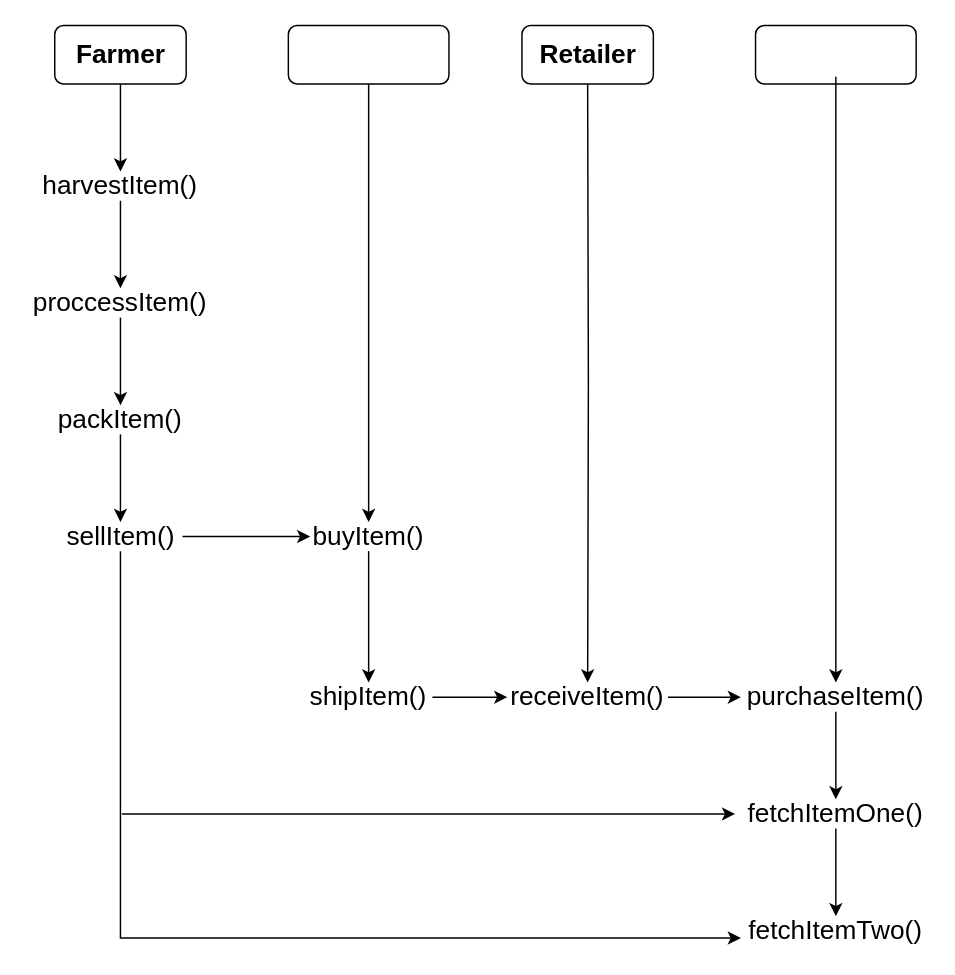
Some shapes in this 955 by 975 pixel diagram are drawn without their labels. The shapes that lost their labels are listed below. From the top down, each one's box as (x1, y1, x2, y2) in pixels, then its label:
(287, 24, 449, 84): Distributor
(754, 24, 916, 84): Consumer
